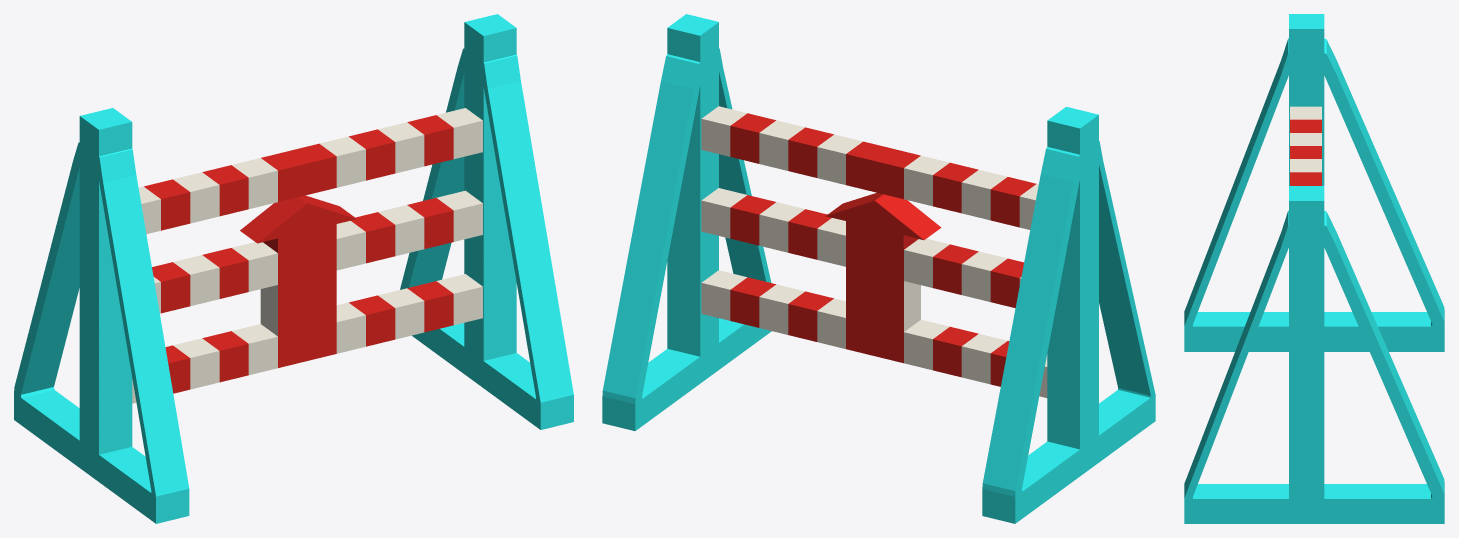
File: jump_snag.fbx
3 views of the same model, side by side, from view 1: azimuth 30°, elevation 25°; view 2: azimuth 150°, elevation 25°; view 3: azimuth 270°, elevation 25° (orthographic). The views are drawn at different scales.
Visible parts, largest first — view 1: jump_snag, jump_snag2; view 2: jump_snag, jump_snag2; view 3: jump_snag, jump_snag2.
Boxes of the visible parts, x1=… form: jump_snag: x1=14, y1=14, x2=573, y2=523; jump_snag2: x1=132, y1=108, x2=482, y2=403; jump_snag: x1=602, y1=14, x2=1155, y2=523; jump_snag2: x1=701, y1=106, x2=1047, y2=397; jump_snag: x1=1184, y1=14, x2=1444, y2=523; jump_snag2: x1=1290, y1=106, x2=1321, y2=185.
Bounding box in the file's own units: 435 × 350 × 256.
